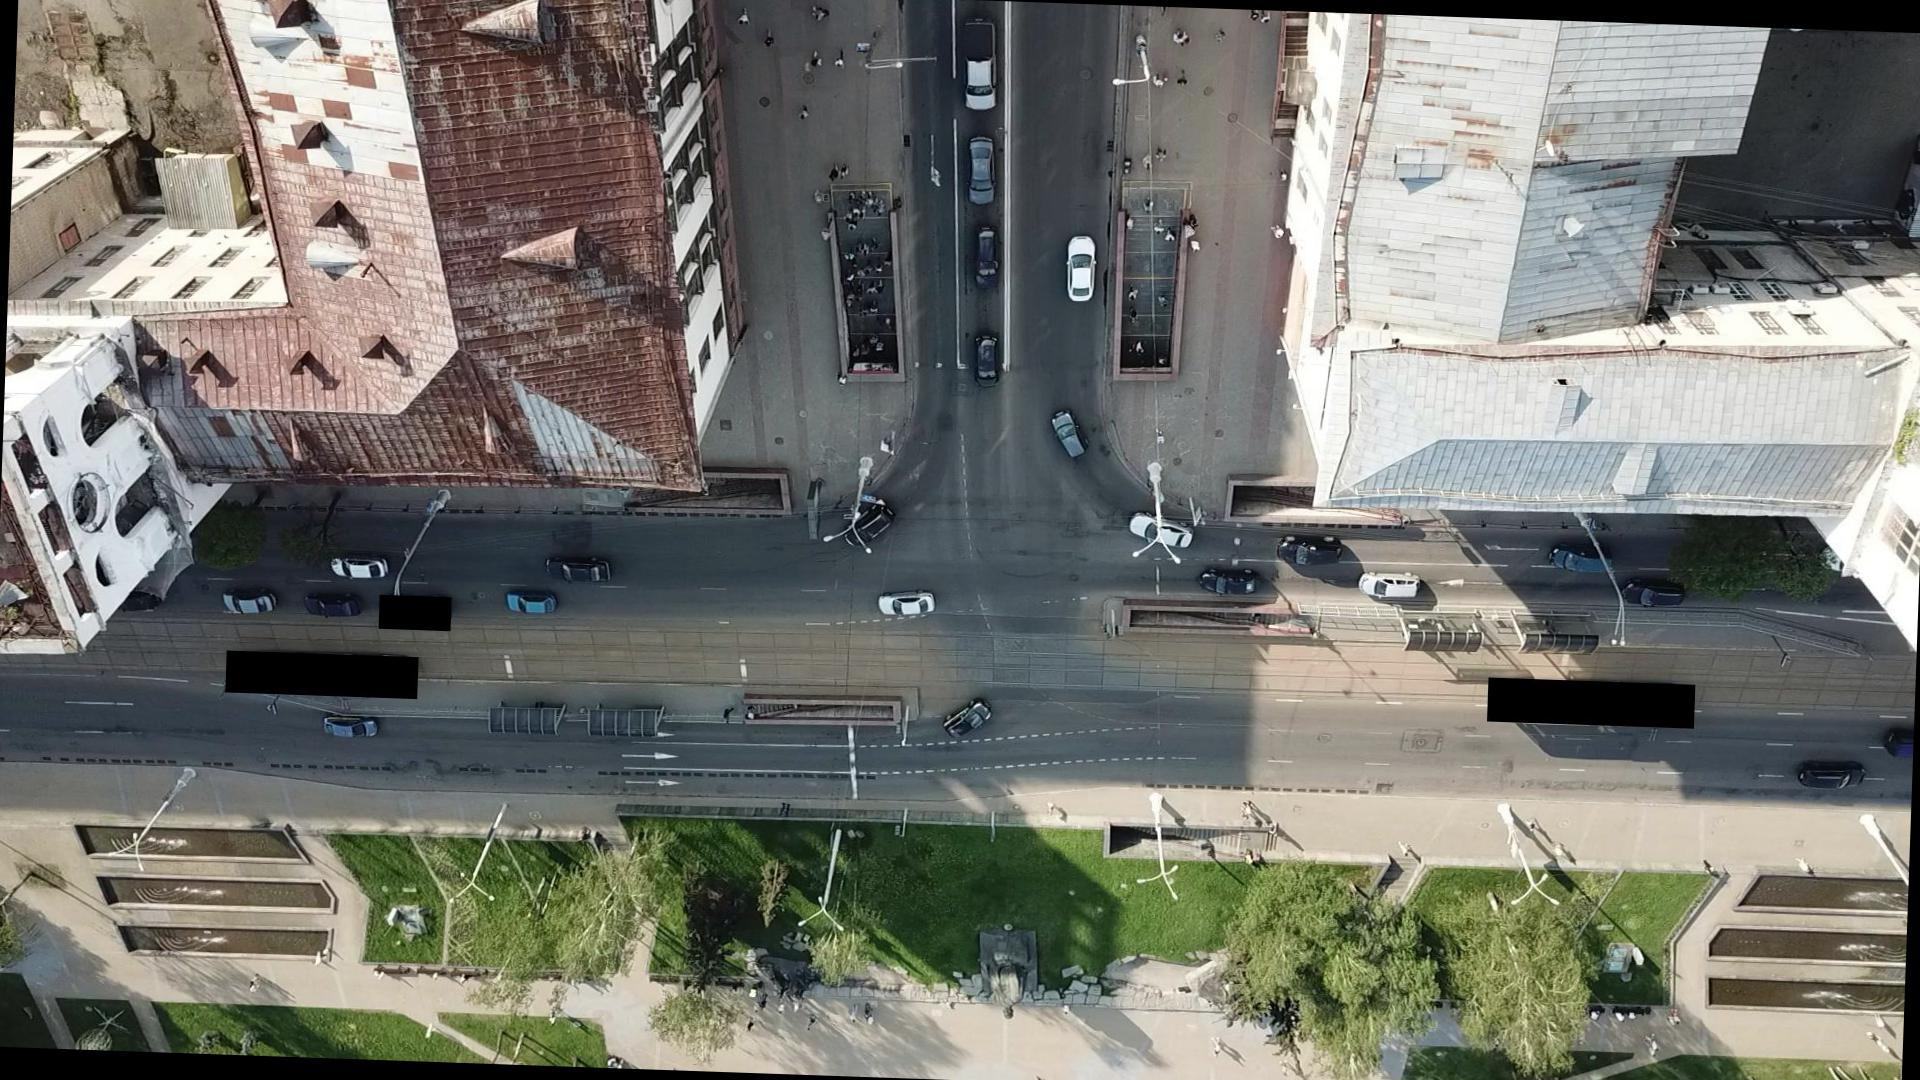vehicle: (960, 20, 1000, 111), (843, 498, 898, 551), (1127, 512, 1195, 550), (942, 698, 994, 741), (1797, 761, 1869, 793), (1276, 535, 1344, 567), (1065, 236, 1097, 303), (1048, 409, 1091, 459), (1549, 546, 1615, 576), (545, 555, 613, 584), (968, 135, 996, 206), (1621, 579, 1688, 608), (972, 228, 1002, 290), (876, 588, 938, 618), (1197, 568, 1259, 597), (1360, 571, 1419, 600), (328, 554, 390, 582), (223, 585, 277, 617), (972, 334, 1002, 389), (302, 593, 363, 618), (322, 715, 380, 740), (505, 589, 558, 615)
